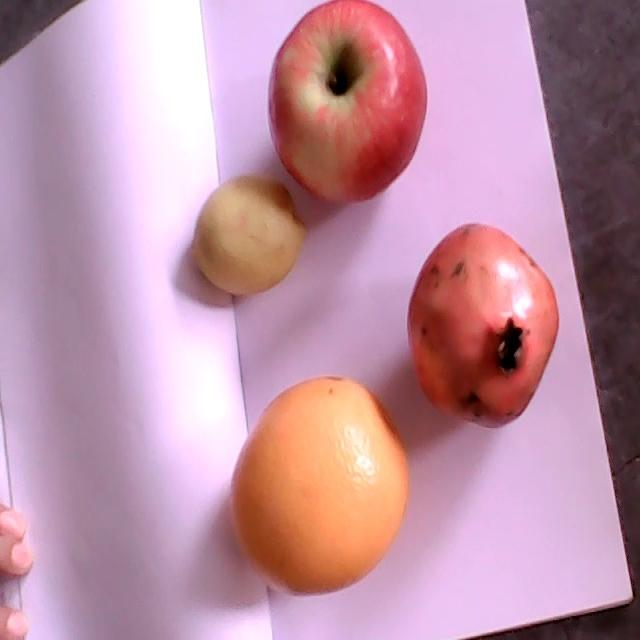apple: (267, 1, 427, 203)
lemon: (189, 173, 306, 296)
orange: (229, 376, 410, 598)
pomegranate: (407, 223, 559, 430)
